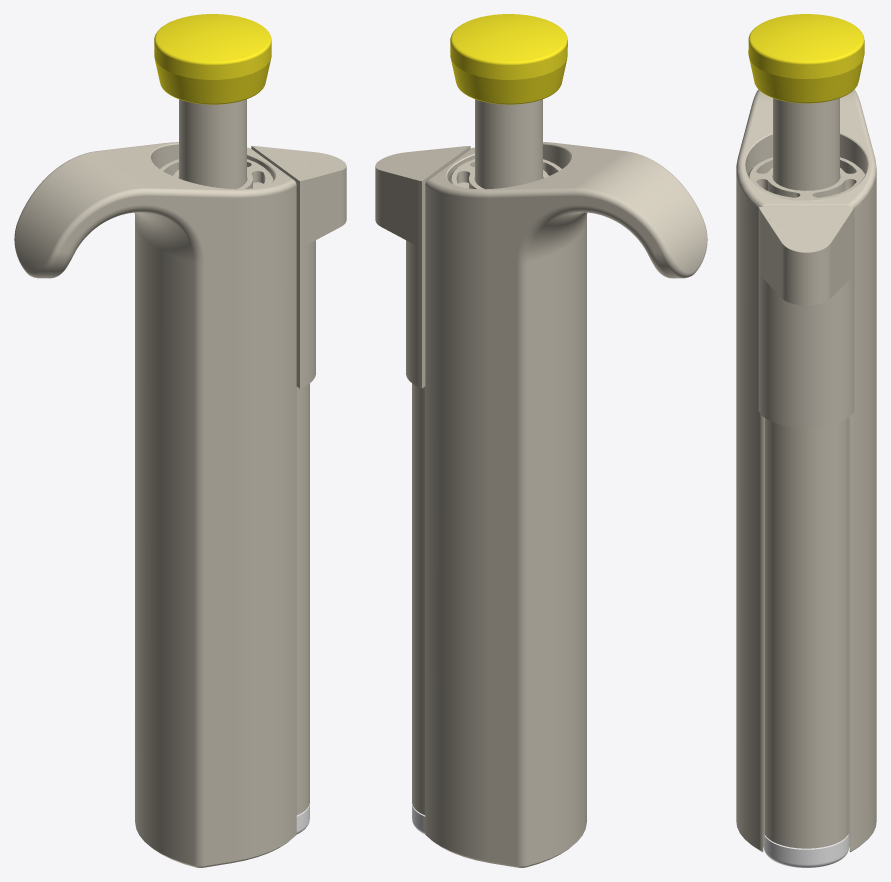
The model's file is ptt_without.fbx.
The picture shows the model from 3 angles, left to right: view 1: azimuth 30°, elevation 25°; view 2: azimuth 150°, elevation 25°; view 3: azimuth 270°, elevation 25°; orthographic projection.
Parts seen in each view (by area): view 1: cream low gloss plastic, yellow low gloss plastic; view 2: cream low gloss plastic, yellow low gloss plastic; view 3: cream low gloss plastic, yellow low gloss plastic, white low gloss plastic.
Boxes of the visible parts, x1,y1,x2,y2 form: cream low gloss plastic: (14,99,346,867); yellow low gloss plastic: (154,14,271,104); cream low gloss plastic: (375,99,707,867); yellow low gloss plastic: (450,14,567,104); cream low gloss plastic: (736,89,876,852); yellow low gloss plastic: (748,14,864,103); white low gloss plastic: (763,834,849,867).
Size of the model in its own units: 5.88 by 14.37 by 2.3.
